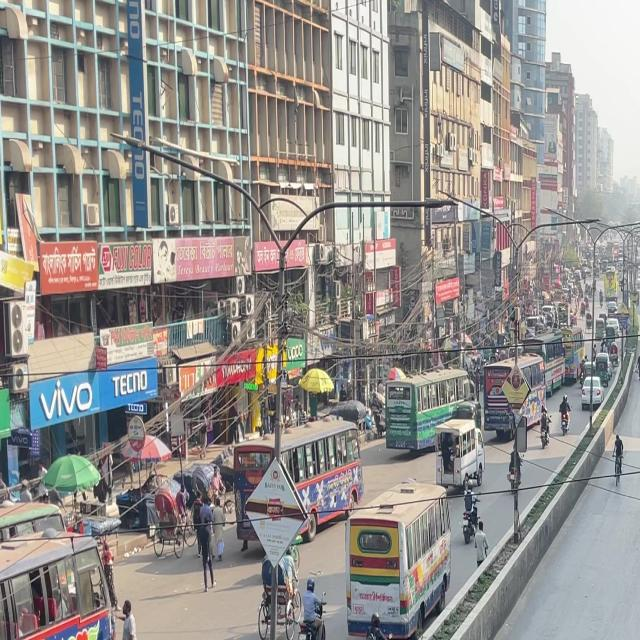bicycle: (610, 432, 632, 487)
bus: (227, 417, 368, 537), (0, 527, 112, 640), (376, 368, 472, 454), (478, 350, 554, 432)
motorbike: (292, 583, 332, 640), (460, 482, 482, 544), (355, 619, 397, 640)
van: (337, 468, 463, 626), (432, 411, 495, 495)
